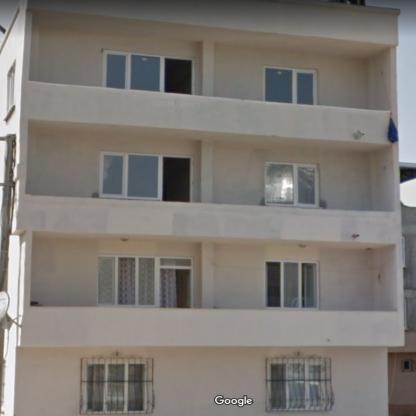window: (98, 255, 192, 306), (85, 362, 147, 412), (100, 152, 162, 200), (268, 362, 324, 410), (264, 261, 318, 309), (102, 51, 165, 92), (264, 162, 318, 207), (264, 66, 317, 104), (403, 360, 411, 370)
